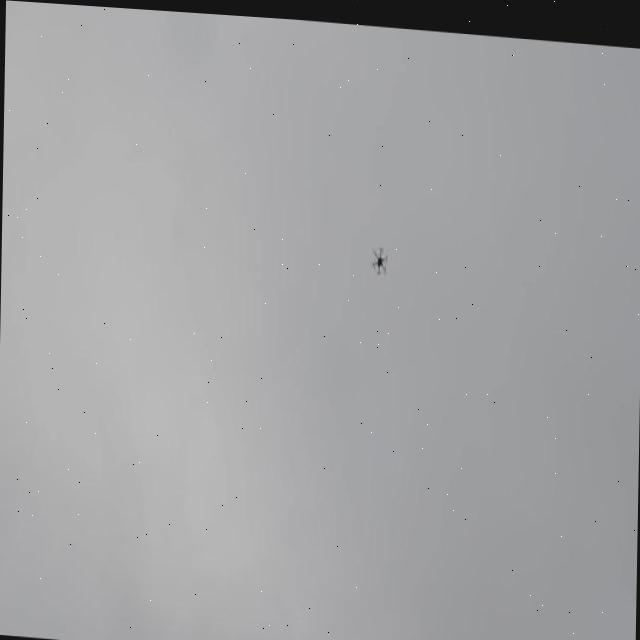drone: (369, 236, 390, 271)
